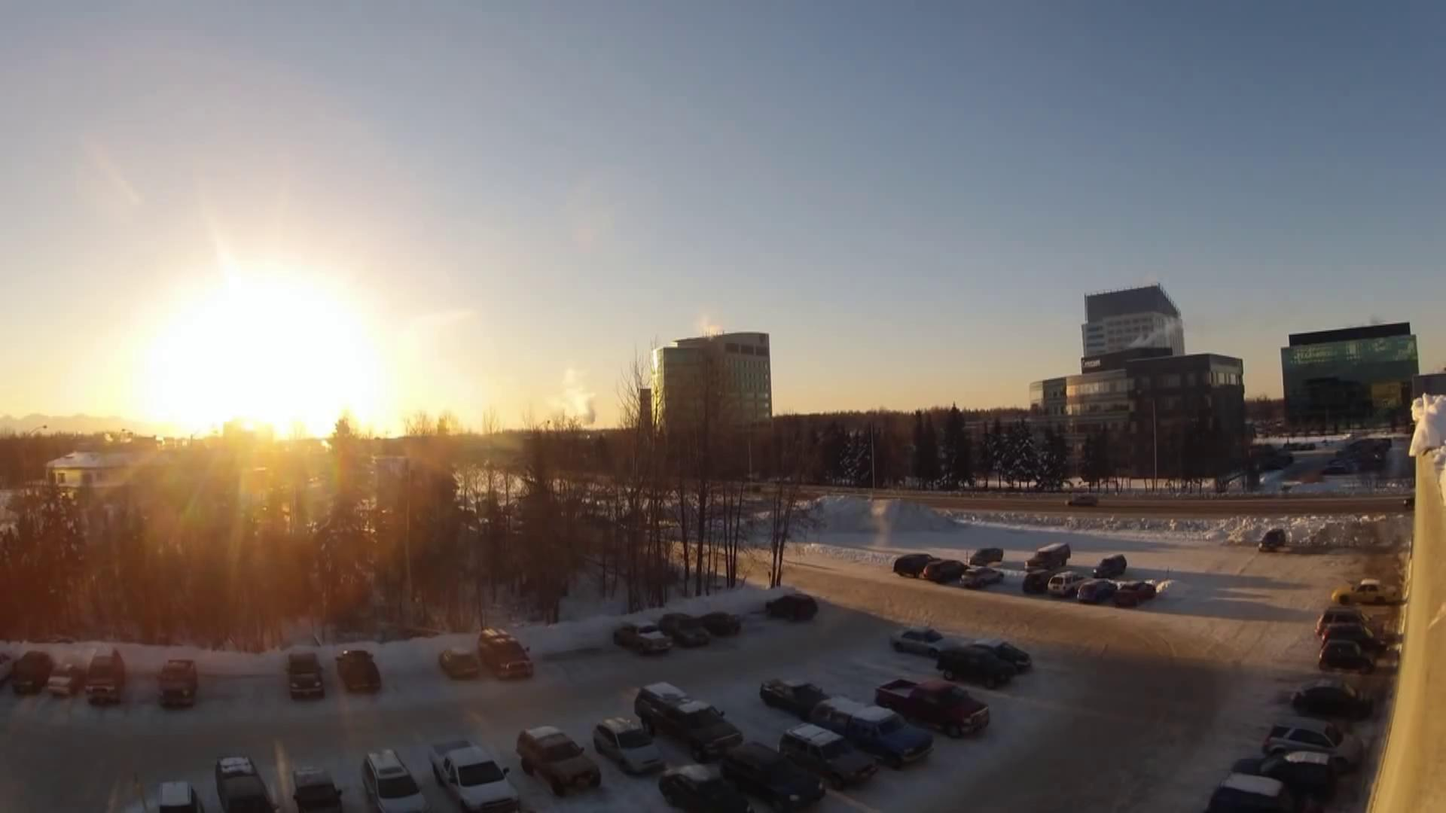fire: (1131, 318, 1190, 346)
